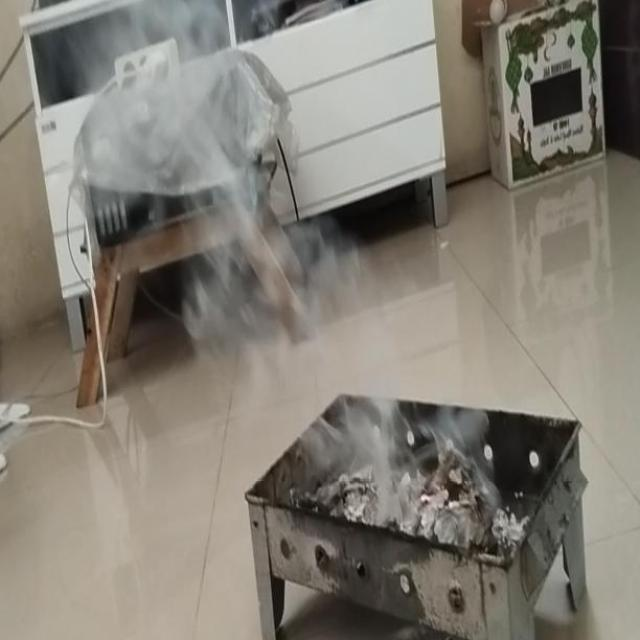fire: (176, 208, 374, 404), (76, 0, 243, 183), (290, 396, 498, 498)
